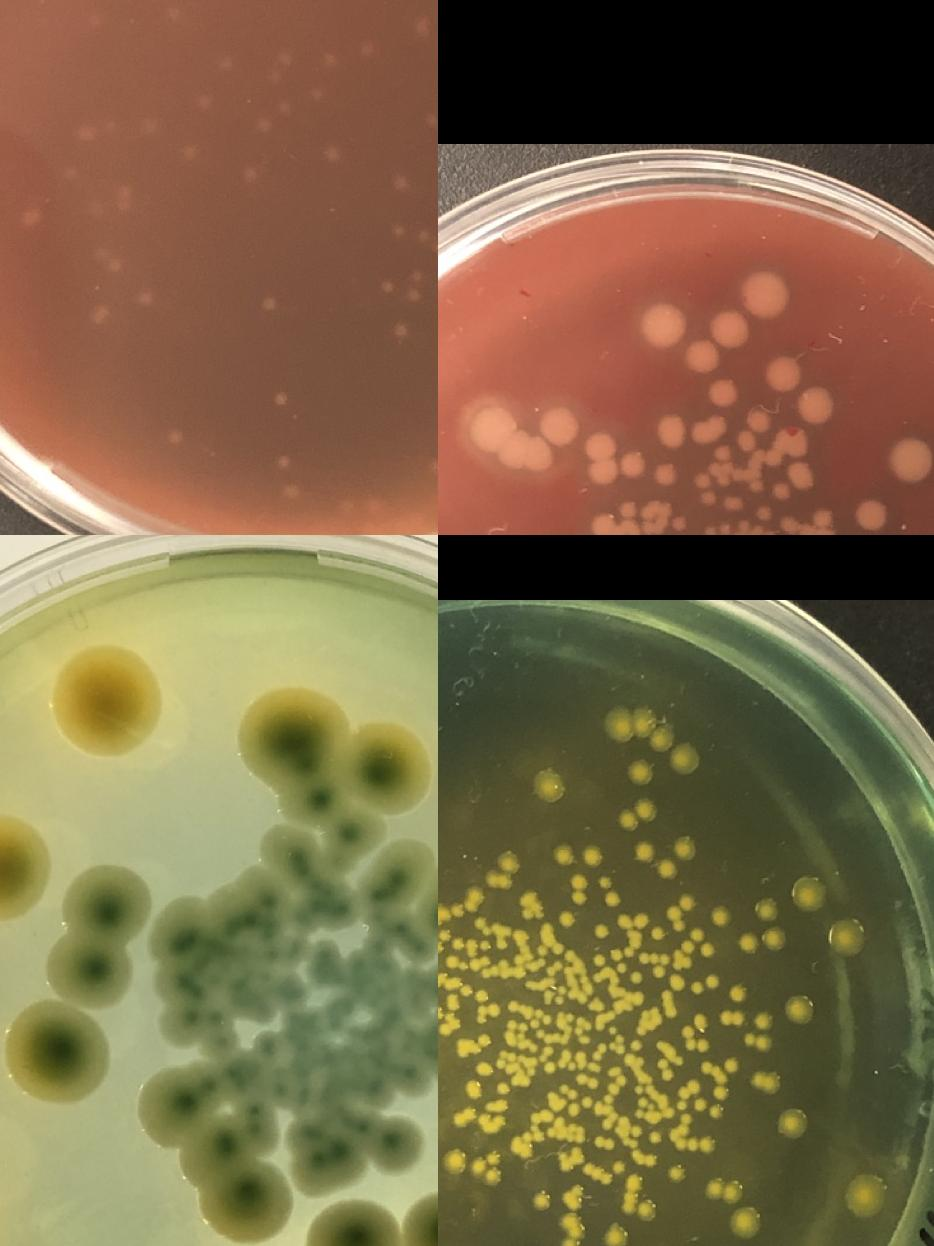pddamselae: (683, 308, 750, 374), (739, 270, 788, 318), (638, 302, 686, 350), (886, 436, 934, 484), (582, 431, 618, 488), (538, 406, 578, 446), (795, 386, 835, 426), (735, 409, 771, 452), (764, 355, 800, 392), (852, 498, 886, 532), (708, 376, 736, 409), (652, 462, 676, 486), (768, 481, 792, 503), (616, 498, 638, 520), (713, 445, 730, 463), (695, 473, 710, 488), (670, 516, 686, 530), (700, 492, 714, 506), (756, 506, 769, 520), (703, 525, 715, 535)
pdpiscicida: (86, 244, 122, 277), (402, 266, 424, 310), (413, 223, 438, 261), (72, 124, 96, 146), (214, 55, 237, 77), (411, 13, 434, 35), (20, 208, 42, 230), (84, 197, 106, 219), (116, 178, 138, 200), (132, 290, 154, 312), (162, 5, 184, 27), (164, 424, 186, 446), (178, 142, 200, 164), (253, 114, 275, 136), (258, 292, 280, 314), (274, 46, 296, 68), (277, 96, 299, 118), (281, 482, 303, 504), (304, 83, 326, 105), (313, 51, 335, 73), (355, 36, 377, 58), (374, 273, 396, 295), (387, 319, 409, 341), (86, 304, 108, 325), (140, 117, 162, 138), (192, 92, 214, 113), (270, 388, 291, 410), (270, 452, 291, 474), (321, 146, 342, 168), (384, 217, 406, 238), (389, 172, 410, 194), (54, 164, 77, 184), (235, 166, 257, 186), (264, 68, 286, 88), (422, 455, 438, 477), (423, 111, 438, 133)
sinniae: (603, 710, 675, 752), (669, 1114, 716, 1153), (466, 940, 510, 981), (844, 1176, 884, 1216), (522, 1007, 553, 1057), (534, 923, 564, 969), (616, 799, 656, 832), (484, 851, 519, 888), (556, 1183, 582, 1232), (467, 1153, 502, 1189), (664, 895, 694, 933), (702, 1178, 742, 1205), (680, 1015, 709, 1052), (700, 1062, 727, 1101), (792, 880, 824, 912), (728, 1208, 760, 1238), (830, 924, 862, 954), (637, 952, 670, 980), (778, 1110, 808, 1140), (510, 1131, 542, 1159), (455, 1034, 492, 1058), (784, 995, 814, 1024), (451, 1106, 487, 1129), (534, 771, 562, 799), (628, 758, 656, 786), (670, 746, 698, 774), (473, 917, 510, 938), (580, 1163, 612, 1186), (688, 974, 720, 996), (514, 932, 528, 980), (567, 1094, 594, 1118), (444, 976, 472, 999), (676, 1080, 696, 1112), (438, 1012, 462, 1037), (681, 927, 705, 952), (503, 1020, 526, 1046), (518, 895, 541, 921), (570, 874, 588, 907), (554, 984, 578, 1008), (475, 1004, 501, 1026), (614, 914, 648, 930), (632, 842, 656, 864), (742, 1034, 770, 1052), (443, 1150, 465, 1172), (530, 1192, 552, 1214), (552, 844, 574, 866), (581, 846, 603, 868), (634, 1200, 656, 1222), (673, 838, 695, 860), (709, 904, 731, 926), (736, 934, 758, 956), (755, 899, 777, 921), (759, 1072, 781, 1094), (762, 928, 784, 950), (556, 1048, 576, 1072), (632, 1148, 656, 1168), (574, 1072, 600, 1090), (752, 1010, 773, 1032), (660, 989, 675, 1018), (465, 887, 482, 912), (656, 860, 677, 880), (592, 1135, 616, 1152), (604, 1228, 626, 1246), (445, 956, 468, 972), (657, 1058, 672, 1081), (556, 1011, 574, 1030), (559, 1083, 578, 1101), (464, 1082, 482, 1100), (475, 1060, 493, 1078), (557, 910, 575, 928), (717, 1012, 744, 1024), (610, 947, 632, 961), (530, 1109, 549, 1125), (592, 924, 609, 940), (596, 875, 612, 891), (666, 1166, 682, 1182), (624, 1176, 642, 1190), (558, 1235, 580, 1246), (547, 960, 562, 976), (604, 892, 619, 908), (669, 974, 684, 990), (700, 942, 715, 958), (728, 986, 743, 1002), (724, 1058, 738, 1074), (614, 1033, 624, 1055), (612, 1161, 626, 1175), (648, 1130, 662, 1144), (649, 926, 663, 940), (474, 989, 487, 1003), (496, 1082, 509, 1096), (629, 971, 642, 985), (446, 998, 460, 1010), (450, 905, 464, 917), (592, 954, 605, 966), (438, 907, 445, 919), (438, 942, 443, 956), (438, 976, 441, 988)
valgino: (0, 864, 152, 1110), (240, 688, 432, 820), (303, 1145, 438, 1246), (49, 646, 159, 756), (202, 1162, 290, 1242), (134, 1068, 212, 1150), (0, 815, 52, 924), (364, 1116, 422, 1174)
